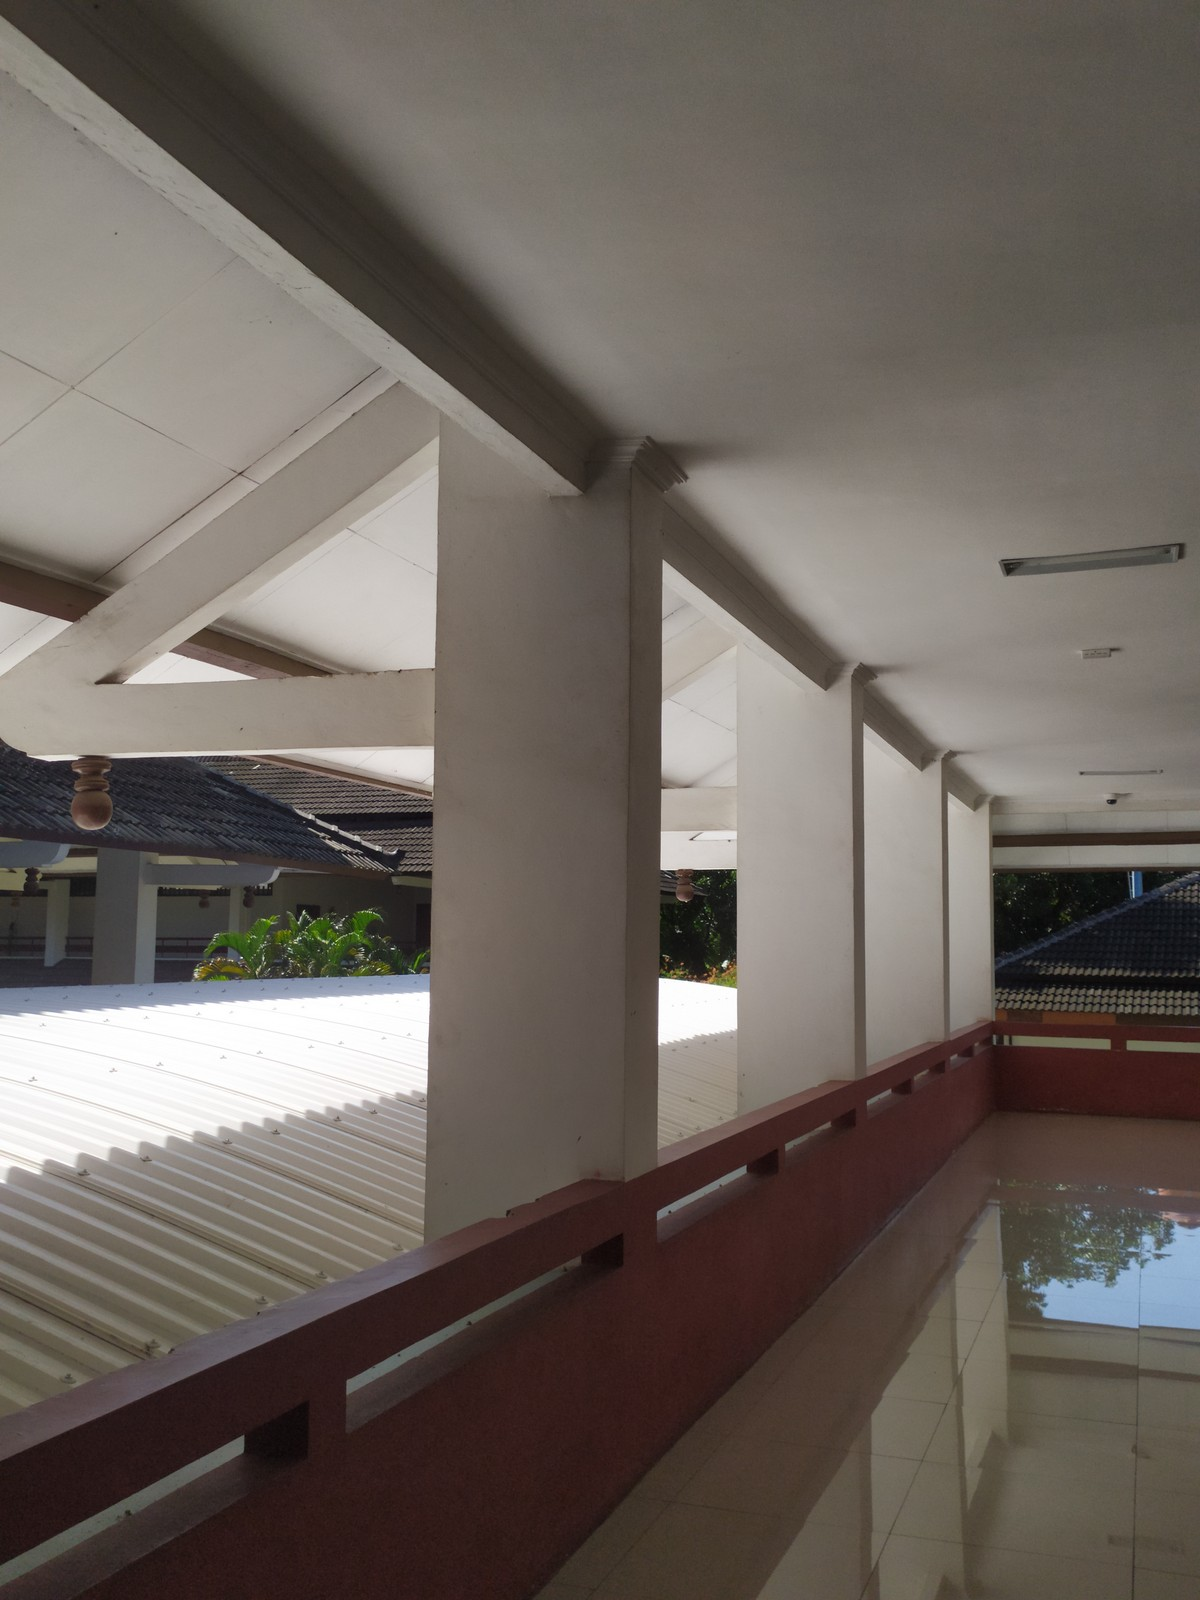concrete beam: (124, 665, 437, 775)
concrete column: (417, 460, 673, 1243), (727, 666, 877, 1123)
